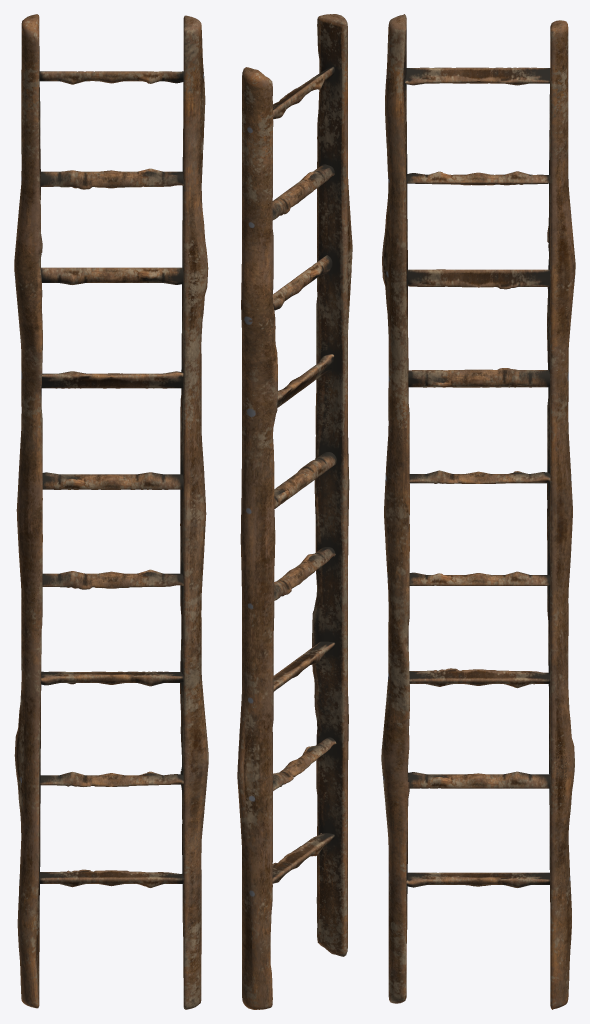
The model's file is ladder_wooden-_9_mb.glb.
3 views of the same model, side by side, from view 1: azimuth 90°, elevation 25°; view 2: azimuth 150°, elevation 25°; view 3: azimuth 270°, elevation 25° (orthographic). The views are drawn at different scales.
Parts seen in each view (by area): view 1: Symmetry; view 2: Symmetry; view 3: Symmetry.
Boxes of the visible parts, x1=… form: Symmetry: x1=14, y1=14, x2=208, y2=1009; Symmetry: x1=237, y1=14, x2=352, y2=1009; Symmetry: x1=381, y1=14, x2=575, y2=1009.
Bounding box in the file's own units: 0.1413 × 3.92 × 0.7044.
1 material, 1 textured.
